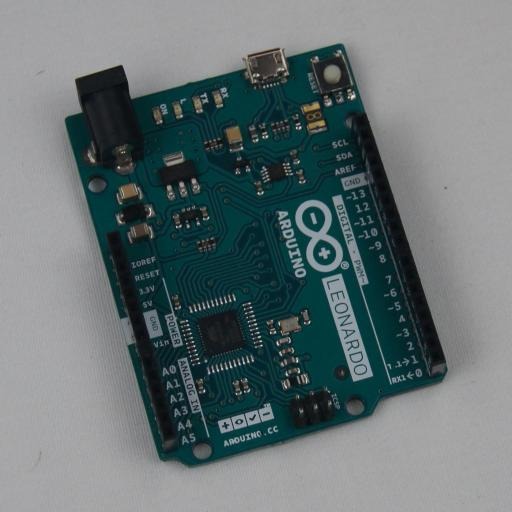Arduino Leonardo: (65, 44, 448, 468)
